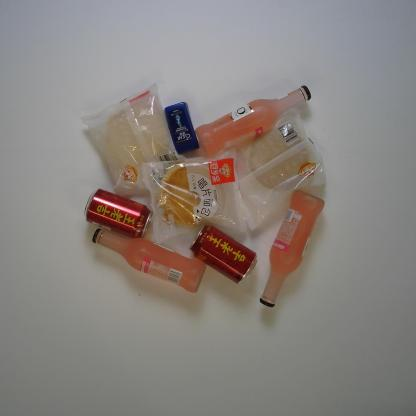Alcohol: (194, 85, 312, 159), (258, 189, 326, 309), (90, 228, 208, 294)
Dessert: (80, 80, 183, 200), (234, 106, 328, 232), (140, 146, 248, 247)
Drink: (188, 223, 258, 286), (82, 188, 154, 240)
Personal Hygiene: (164, 101, 200, 156)
